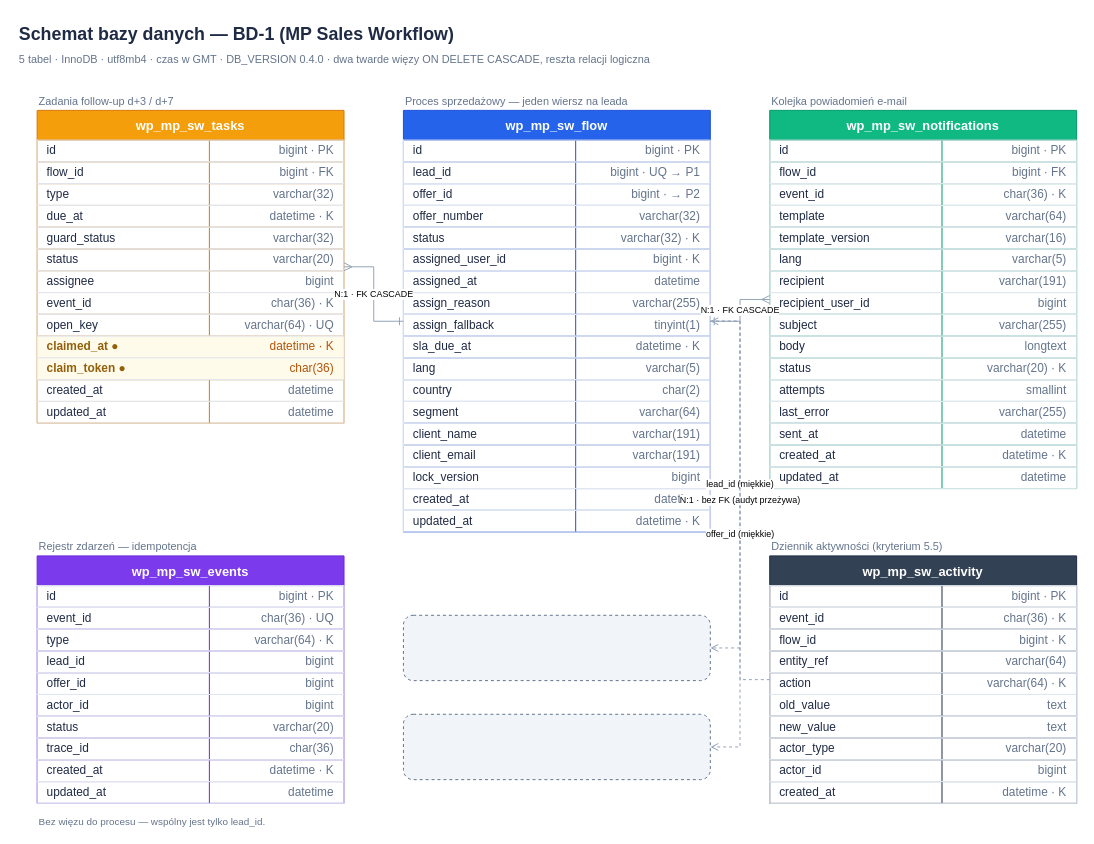
This 1094x844 diagram has some shape labels left out. Here are the shapes that lost their labels. From the top down, the centre of each, then its label:
(556,647): wp_mp_leads — Plugin 1 (BD-3) adres i firma klienta czytane po lead_id
(556,746): wp_mp_ob_offers — Plugin 2 (BD-2) ścieżka PDF i numer oferty czytane po offer_id
